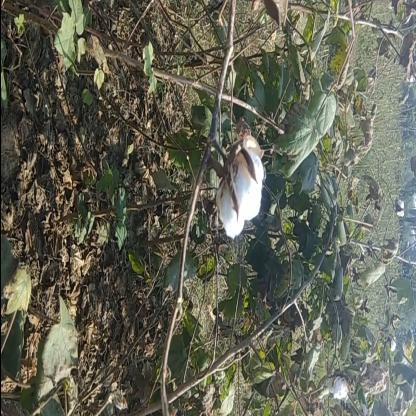cotton_ready: (198, 118, 272, 256)
